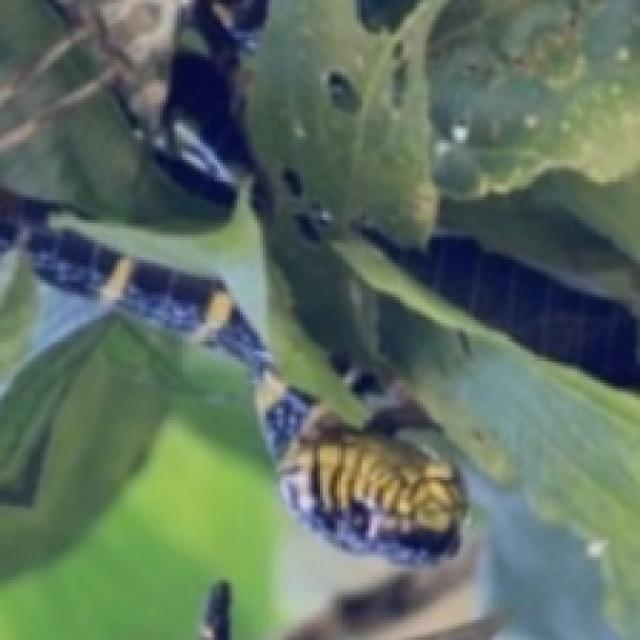mangrove cat snake: (0, 189, 466, 562), (360, 222, 640, 388), (151, 0, 271, 218)
